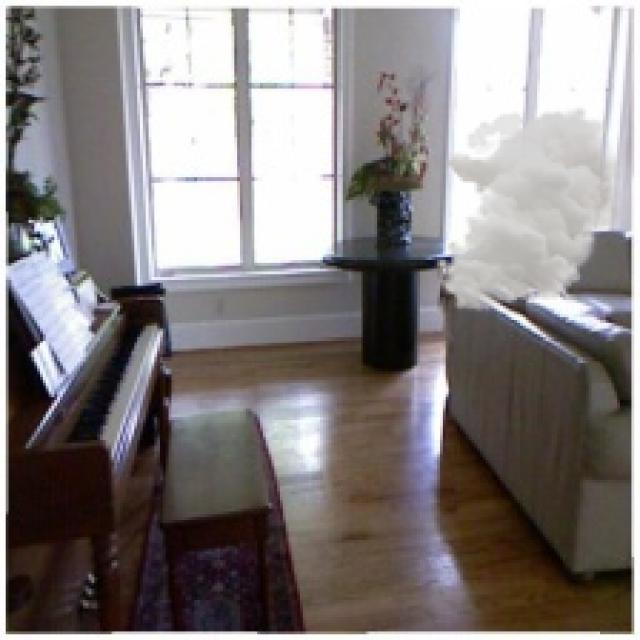smoke: (434, 106, 634, 311)
